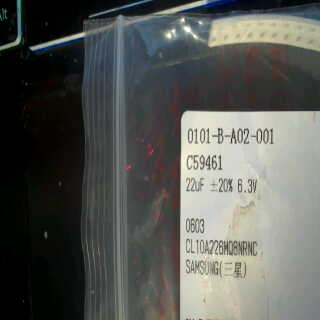22uF: (182, 174, 208, 195)
